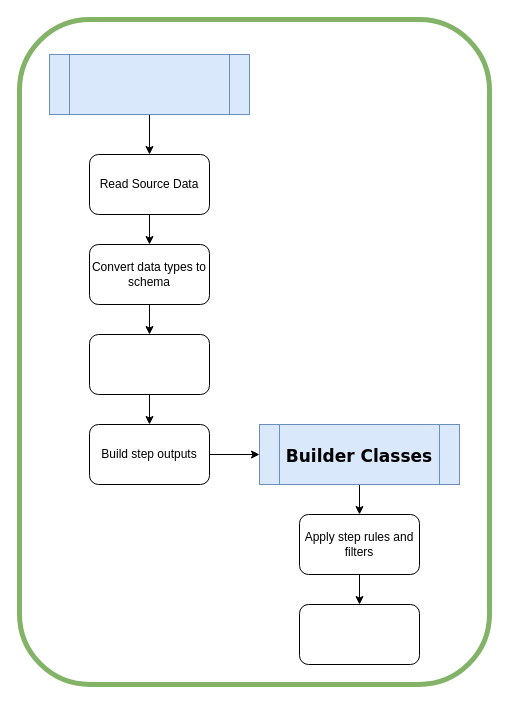
This 509x704 diagram has some shape labels left out. Each missing label, with the centre of its shape:
Loader Classes: point 149,84
Persist step output: point 359,634
Validate Source Data: point 149,364
